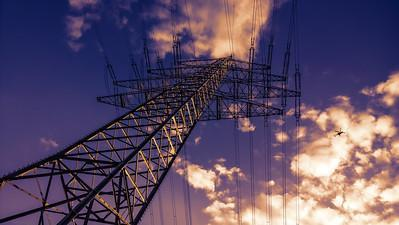power_tower: (0, 39, 306, 225)
